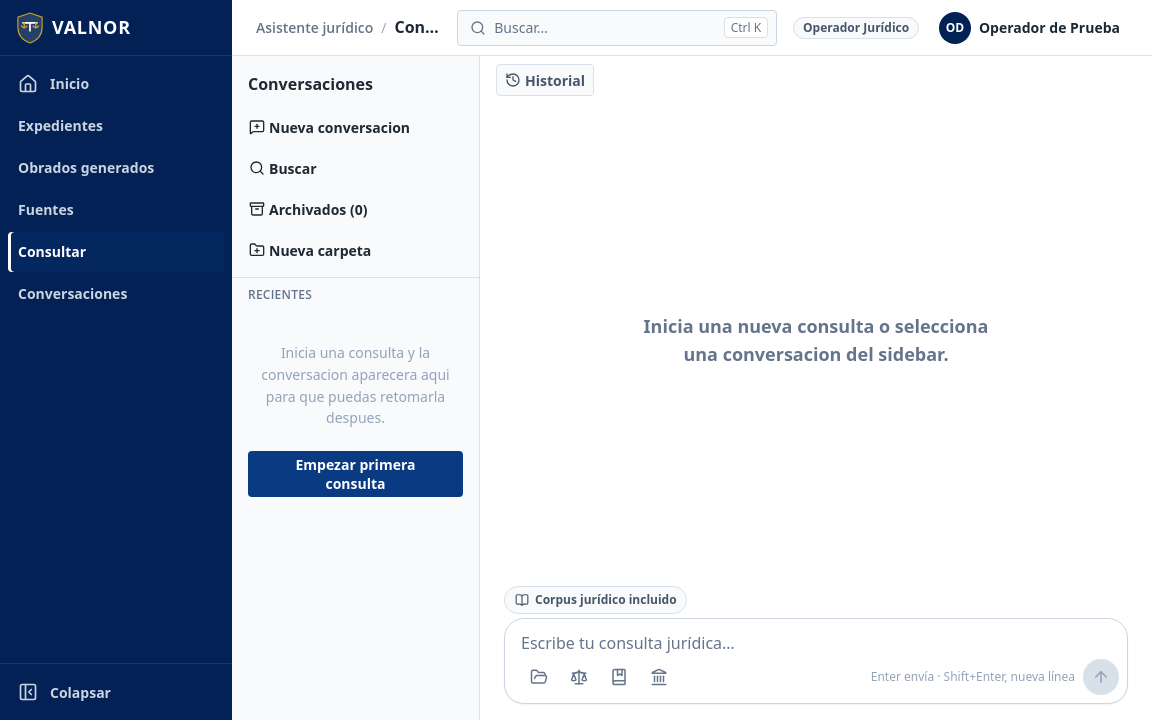
Test: ConsultaLayout (rail fijo + panel de historial) › el único toggle (Historial) abre y cierra el panel sin tocar el rail
Click the button "Historial".
click(545, 80)  # box top-left (496, 64), bottom-right (594, 96)
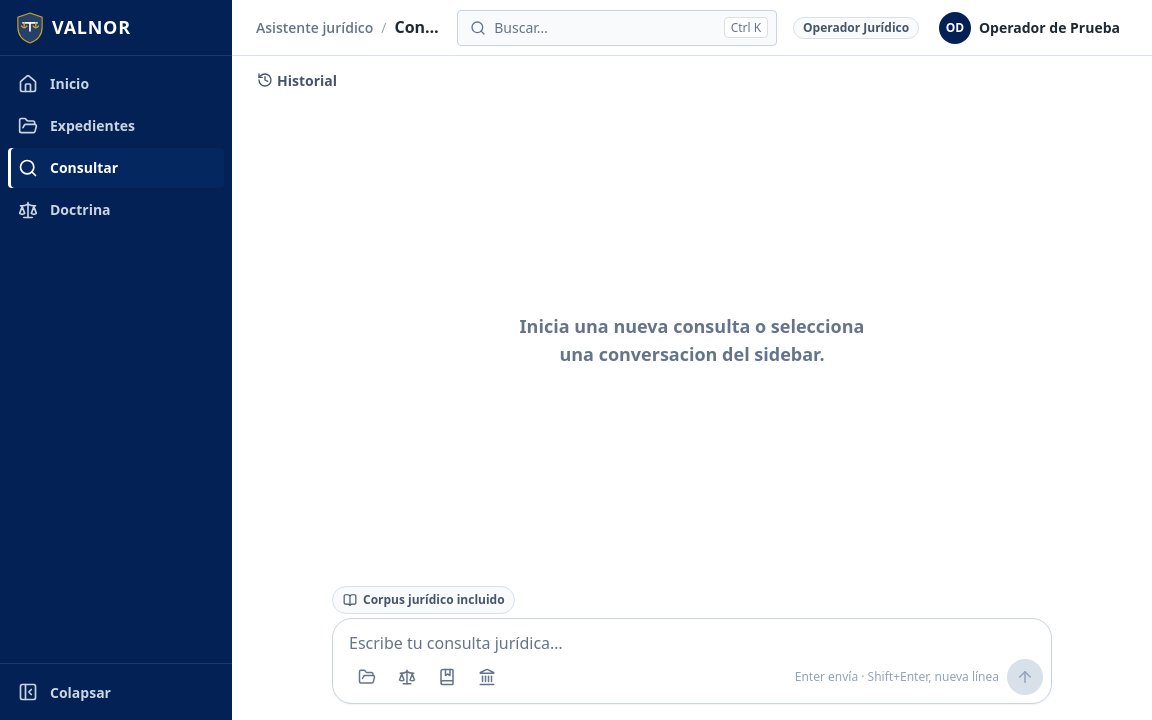
Expected: the link "Expedientes" is shown, top-left (8, 106), bottom-right (224, 146)
Now the button "Historial" is collapsed, box top-left (248, 64), bottom-right (346, 96)
Now the button "Nueva conversacion" is gone
